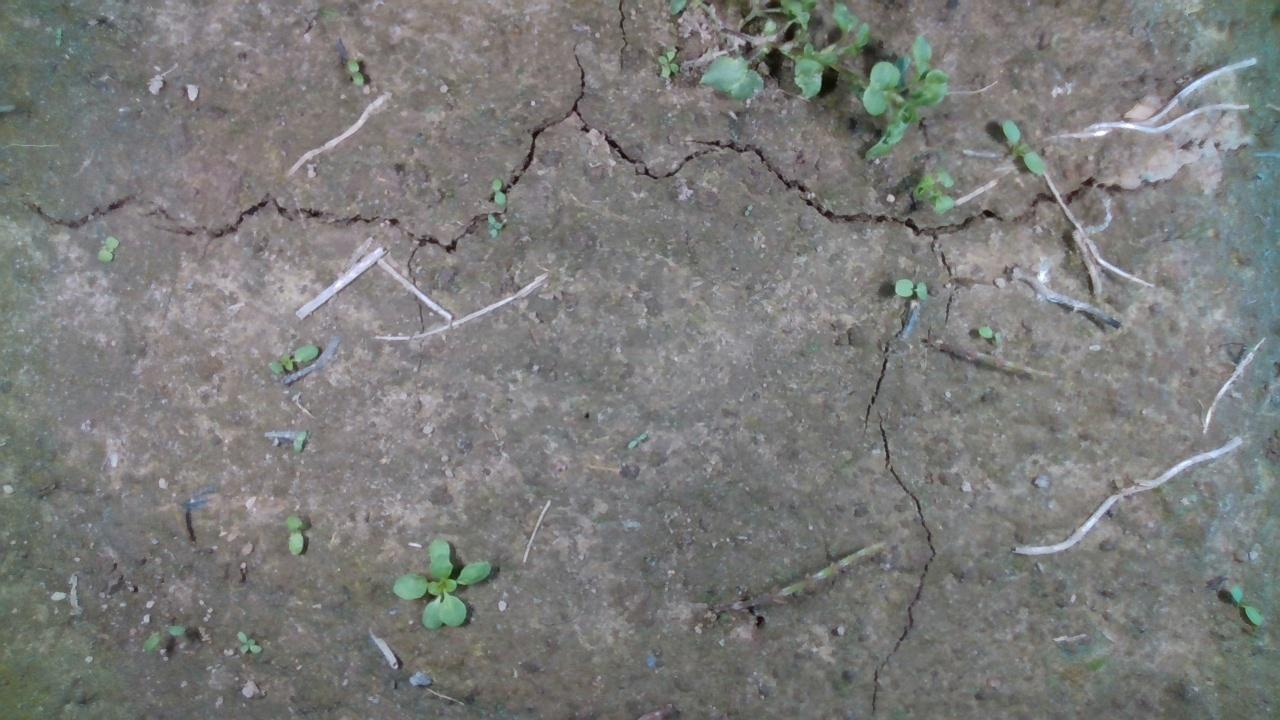weed: (389, 534, 492, 631), (1001, 115, 1050, 176), (265, 343, 319, 374), (139, 621, 185, 653), (283, 510, 304, 558), (892, 277, 928, 303), (656, 46, 680, 78), (976, 322, 1004, 347), (95, 234, 119, 261), (344, 57, 364, 88), (235, 630, 261, 653), (489, 177, 507, 205)
